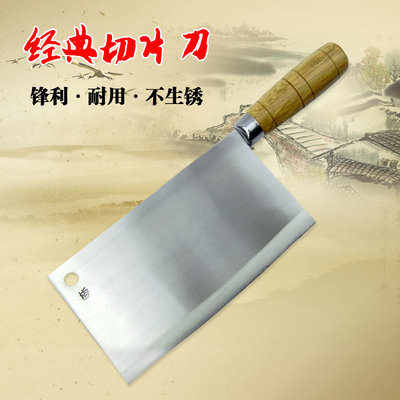knief: (22, 106, 342, 371)
